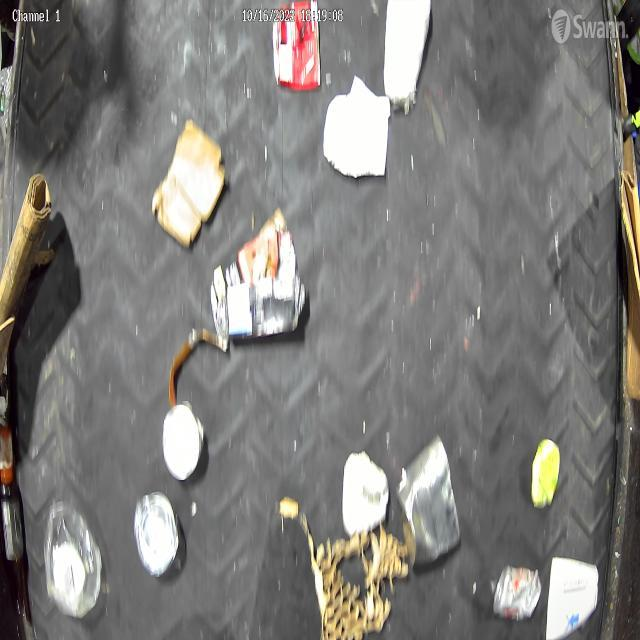can: (396, 434, 464, 570), (133, 490, 189, 580), (160, 400, 206, 482), (494, 564, 542, 621)
non_white_jug: (209, 210, 307, 347), (272, 0, 320, 92)
